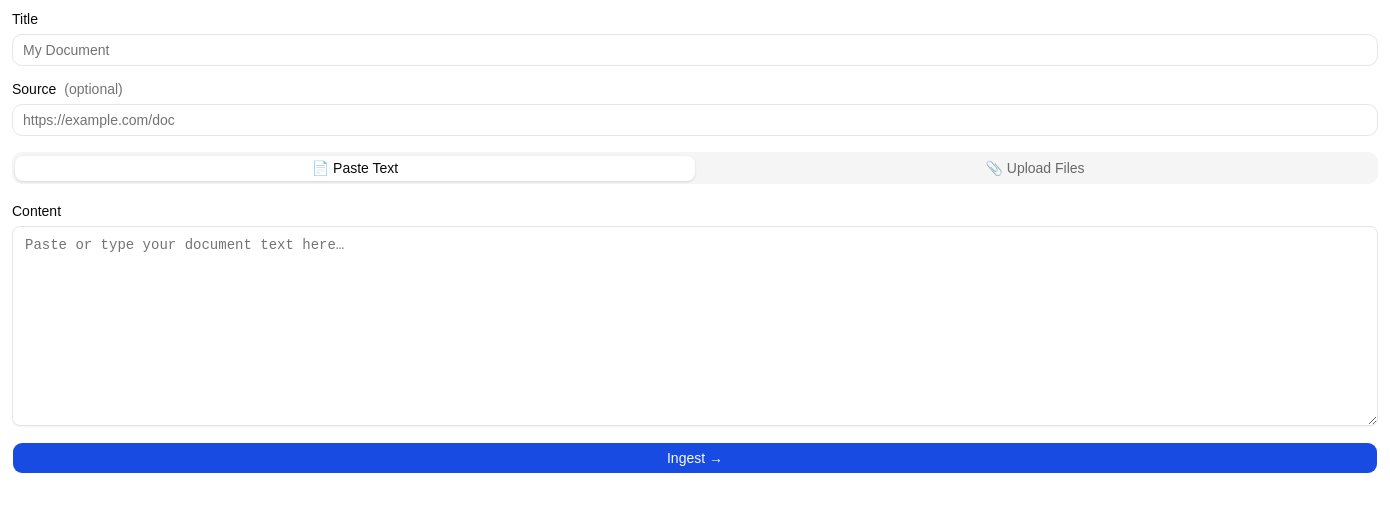
Scenario: IngestDocumentForm — text mode validation › shows validation error when submitting with empty content
The image size is (1390, 518).
Type "My Doc" into the field labelled "Title".
click(695, 50); type("My Doc")  # box [12,34,1378,66]
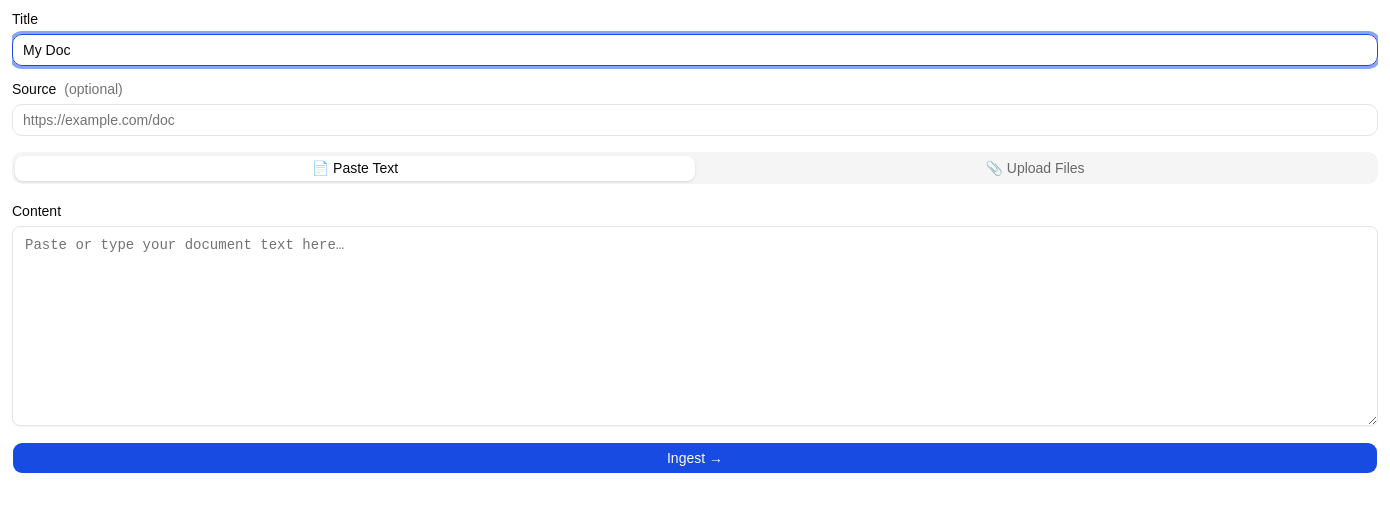
Click the button "Ingest →".
click(695, 458)  # box [12,442,1378,474]
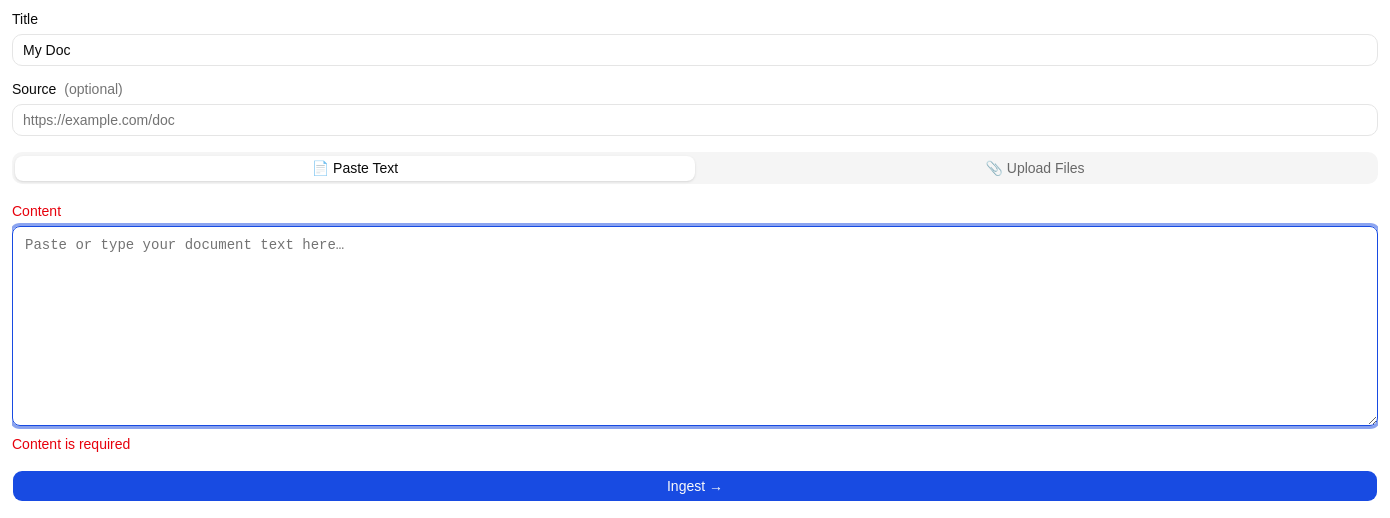
Check: the text "Content is required" is shown, box [12,436,130,452]
